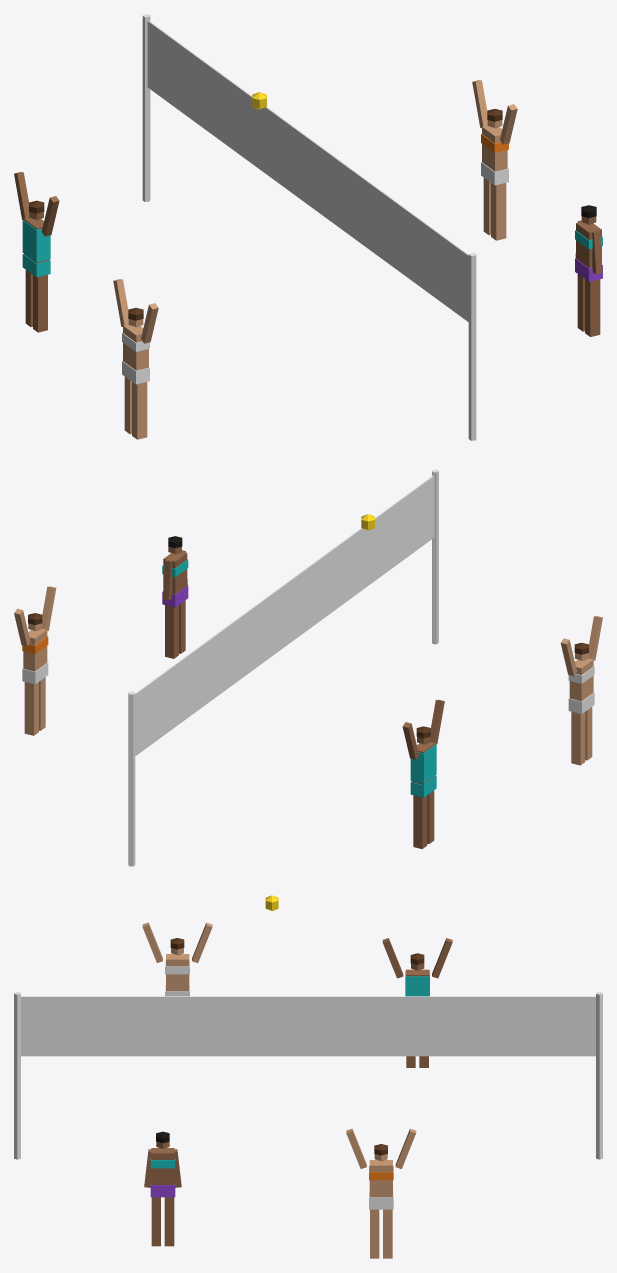
File: voleibol_playa.obj
The picture shows the model from 3 angles, top to bottom: view 1: azimuth 30°, elevation 25°; view 2: azimuth 150°, elevation 25°; view 3: azimuth 270°, elevation 25°; orthographic projection. The views are drawn at different scales.
Visible parts, largest first — view 1: voleibol_playa; view 2: voleibol_playa; view 3: voleibol_playa.
Part boxes in pixels (<box>): voleibol_playa: <box>14,14,602,440</box>; voleibol_playa: <box>14,469,602,866</box>; voleibol_playa: <box>14,895,602,1258</box>.
Size of the model in its own units: 6.92 by 3.52 by 8.1.
